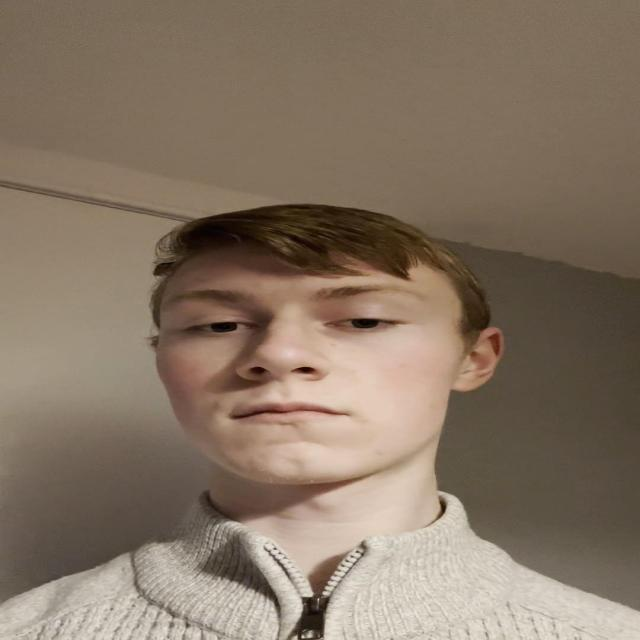no-helmet: (148, 208, 484, 518)
